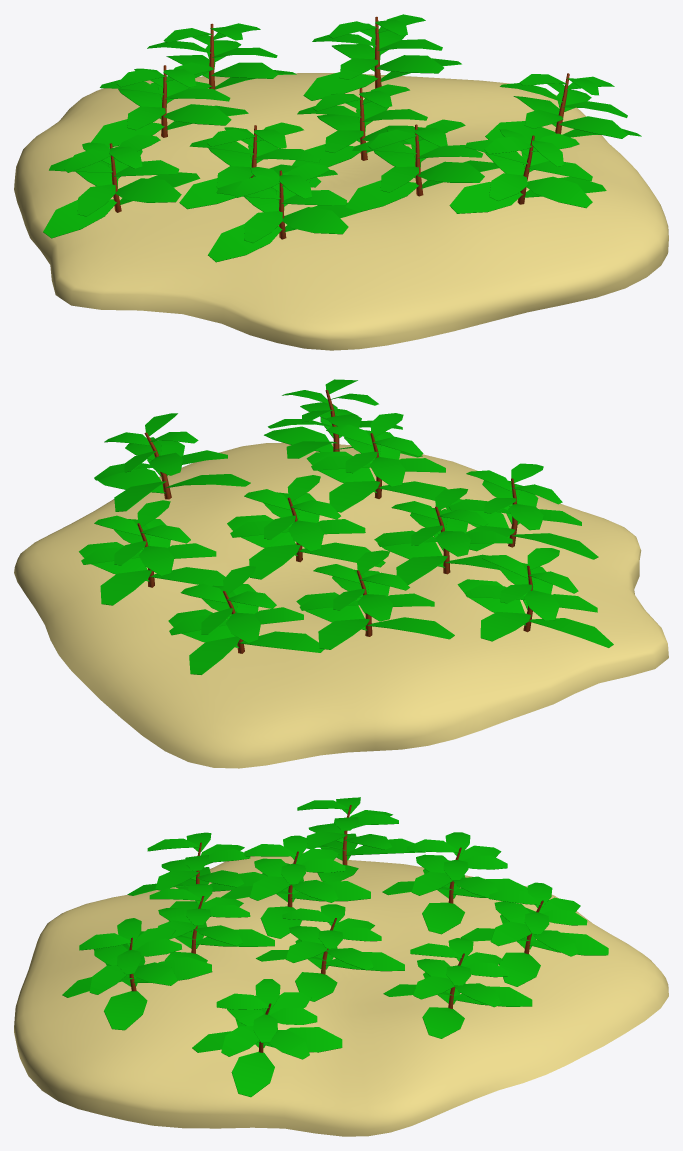
The model's file is Island_small_02.fbx.
3 renders of one model, top to bottom at view 1: azimuth 30°, elevation 25°; view 2: azimuth 150°, elevation 25°; view 3: azimuth 270°, elevation 25°, orthographic. The views are drawn at different scales.
Visible parts, largest first — view 1: Island_small_02; view 2: Island_small_02; view 3: Island_small_02.
Part boxes in pixels (x1,y1,x2,y2): Island_small_02: [14, 14, 668, 350]; Island_small_02: [14, 379, 668, 768]; Island_small_02: [14, 797, 668, 1136].
Size of the model in its own units: 2369 by 533 by 2414.
